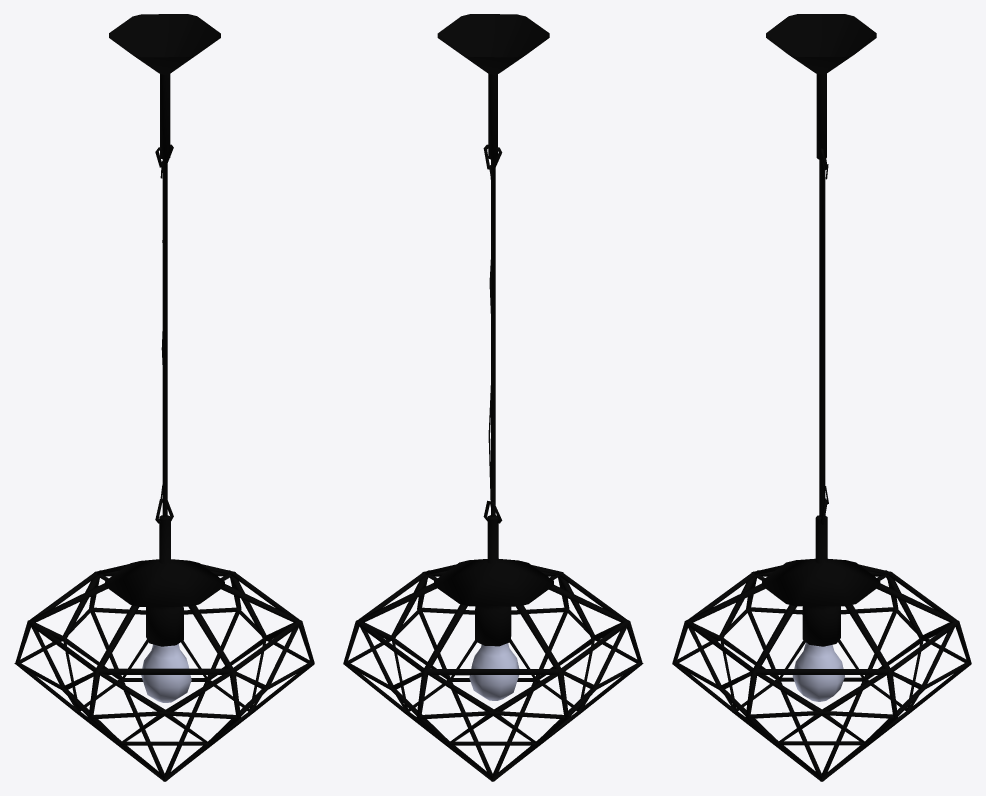
The model's file is SM_Pendantlight_013_C.FBX.
3 views of the same model, side by side, from view 1: azimuth 30°, elevation 25°; view 2: azimuth 150°, elevation 25°; view 3: azimuth 270°, elevation 25° (orthographic).
Parts seen in each view (by area): view 1: SM_Pendantlight_013_C; view 2: SM_Pendantlight_013_C; view 3: SM_Pendantlight_013_C.
Part boxes in pixels (x1,y1,x2,y2): SM_Pendantlight_013_C: [14, 14, 314, 781]; SM_Pendantlight_013_C: [343, 14, 643, 781]; SM_Pendantlight_013_C: [672, 14, 971, 781].
Bounding box in the file's own units: 23.91 × 27.45 × 75.33.
